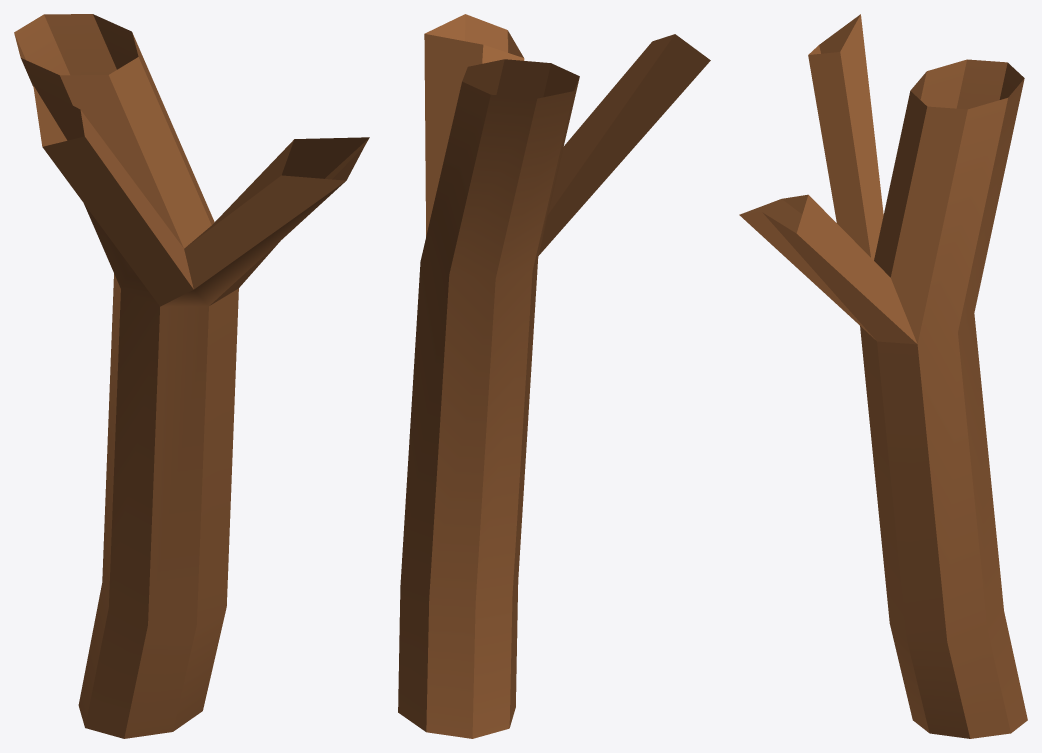
The model's file is tree_miki_D.fbx.
The picture shows the model from 3 angles, left to right: view 1: azimuth 30°, elevation 25°; view 2: azimuth 150°, elevation 25°; view 3: azimuth 270°, elevation 25°; orthographic projection. The views are drawn at different scales.
Parts seen in each view (by area): view 1: tree_miki_D; view 2: tree_miki_D; view 3: tree_miki_D.
Part boxes in pixels (x1,y1,x2,y2): tree_miki_D: (14, 14, 369, 738); tree_miki_D: (398, 14, 710, 738); tree_miki_D: (739, 14, 1027, 738).
Bounding box in the file's own units: 21.4 × 46.46 × 19.06.
